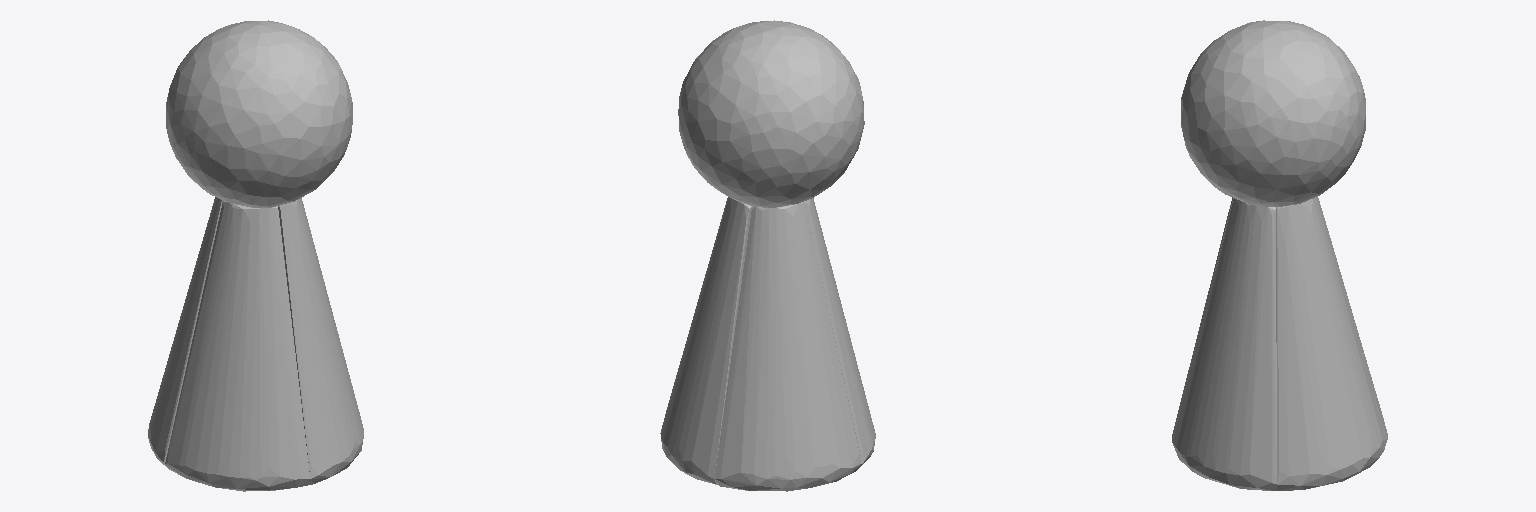
URDF robot description (root):
<robot name="root">
  <link name="link_cone+Ball_convex_piece_0">
    <inertial>
      <origin xyz="0 0 0" rpy="0 0 0"/>
      <mass value="2.35E-02"/>
      <inertia ixx="3.67E-05" ixy="-2.61E-06" ixz="9.09E-06" iyy="3.65E-05" iyz="9.45E-06" izz="8.07E-06"/>
    </inertial>
    <visual>
      <origin xyz="0 0 0" rpy="0 0 0"/>
      <geometry>
        <mesh filename="cone+Ball_convex_piece_0.obj" scale="1.0000E+00 1.0000E+00 1.0000E+00"/>
      </geometry>
      <material name="">
        <color rgba="7.50E-01 7.50E-01 7.50E-01 1"/>
      </material>
    </visual>
    <collision>
      <origin xyz="0 0 0" rpy="0 0 0"/>
      <geometry>
        <mesh filename="cone+Ball_convex_piece_0.obj" scale="1.0000E+00 1.0000E+00 1.0000E+00"/>
      </geometry>
    </collision>
  </link>
  <link name="link_cone+Ball_convex_piece_1">
    <inertial>
      <origin xyz="0 0 0" rpy="0 0 0"/>
      <mass value="2.31E-02"/>
      <inertia ixx="3.63E-05" ixy="2.61E-06" ixz="-9.06E-06" iyy="3.61E-05" iyz="9.32E-06" izz="7.99E-06"/>
    </inertial>
    <visual>
      <origin xyz="0 0 0" rpy="0 0 0"/>
      <geometry>
        <mesh filename="cone+Ball_convex_piece_1.obj" scale="1.0000E+00 1.0000E+00 1.0000E+00"/>
      </geometry>
      <material name="">
        <color rgba="7.50E-01 7.50E-01 7.50E-01 1"/>
      </material>
    </visual>
    <collision>
      <origin xyz="0 0 0" rpy="0 0 0"/>
      <geometry>
        <mesh filename="cone+Ball_convex_piece_1.obj" scale="1.0000E+00 1.0000E+00 1.0000E+00"/>
      </geometry>
    </collision>
  </link>
  <joint name="link_cone+Ball_convex_piece_1_joint" type="fixed">
    <origin xyz="0 0 0" rpy="0 0 0"/>
    <parent link="link_cone+Ball_convex_piece_0"/>
    <child link="link_cone+Ball_convex_piece_1"/>
  </joint>
  <link name="link_cone+Ball_convex_piece_2">
    <inertial>
      <origin xyz="0 0 0" rpy="0 0 0"/>
      <mass value="2.28E-02"/>
      <inertia ixx="3.49E-05" ixy="2.28E-06" ixz="8.63E-06" iyy="3.52E-05" iyz="-8.28E-06" izz="7.15E-06"/>
    </inertial>
    <visual>
      <origin xyz="0 0 0" rpy="0 0 0"/>
      <geometry>
        <mesh filename="cone+Ball_convex_piece_2.obj" scale="1.0000E+00 1.0000E+00 1.0000E+00"/>
      </geometry>
      <material name="">
        <color rgba="7.50E-01 7.50E-01 7.50E-01 1"/>
      </material>
    </visual>
    <collision>
      <origin xyz="0 0 0" rpy="0 0 0"/>
      <geometry>
        <mesh filename="cone+Ball_convex_piece_2.obj" scale="1.0000E+00 1.0000E+00 1.0000E+00"/>
      </geometry>
    </collision>
  </link>
  <joint name="link_cone+Ball_convex_piece_2_joint" type="fixed">
    <origin xyz="0 0 0" rpy="0 0 0"/>
    <parent link="link_cone+Ball_convex_piece_1"/>
    <child link="link_cone+Ball_convex_piece_2"/>
  </joint>
  <link name="link_cone+Ball_convex_piece_3">
    <inertial>
      <origin xyz="0 0 0" rpy="0 0 0"/>
      <mass value="2.30E-02"/>
      <inertia ixx="3.52E-05" ixy="-2.28E-06" ixz="-8.61E-06" iyy="3.54E-05" iyz="-8.38E-06" izz="7.20E-06"/>
    </inertial>
    <visual>
      <origin xyz="0 0 0" rpy="0 0 0"/>
      <geometry>
        <mesh filename="cone+Ball_convex_piece_3.obj" scale="1.0000E+00 1.0000E+00 1.0000E+00"/>
      </geometry>
      <material name="">
        <color rgba="7.50E-01 7.50E-01 7.50E-01 1"/>
      </material>
    </visual>
    <collision>
      <origin xyz="0 0 0" rpy="0 0 0"/>
      <geometry>
        <mesh filename="cone+Ball_convex_piece_3.obj" scale="1.0000E+00 1.0000E+00 1.0000E+00"/>
      </geometry>
    </collision>
  </link>
  <joint name="link_cone+Ball_convex_piece_3_joint" type="fixed">
    <origin xyz="0 0 0" rpy="0 0 0"/>
    <parent link="link_cone+Ball_convex_piece_2"/>
    <child link="link_cone+Ball_convex_piece_3"/>
  </joint>
  <link name="link_cone+Ball_convex_piece_4">
    <inertial>
      <origin xyz="0 0 0" rpy="0 0 0"/>
      <mass value="5.85E-02"/>
      <inertia ixx="1.38E-04" ixy="-9.33E-10" ixz="7.53E-09" iyy="1.38E-04" iyz="2.23E-06" izz="1.68E-05"/>
    </inertial>
    <visual>
      <origin xyz="0 0 0" rpy="0 0 0"/>
      <geometry>
        <mesh filename="cone+Ball_convex_piece_4.obj" scale="1.0000E+00 1.0000E+00 1.0000E+00"/>
      </geometry>
      <material name="">
        <color rgba="7.50E-01 7.50E-01 7.50E-01 1"/>
      </material>
    </visual>
    <collision>
      <origin xyz="0 0 0" rpy="0 0 0"/>
      <geometry>
        <mesh filename="cone+Ball_convex_piece_4.obj" scale="1.0000E+00 1.0000E+00 1.0000E+00"/>
      </geometry>
    </collision>
  </link>
  <joint name="link_cone+Ball_convex_piece_4_joint" type="fixed">
    <origin xyz="0 0 0" rpy="0 0 0"/>
    <parent link="link_cone+Ball_convex_piece_3"/>
    <child link="link_cone+Ball_convex_piece_4"/>
  </joint>
</robot>

--- What the picture shows (computed from the rendered views, not written in the file) ---
Views: 3 orthographic renders of the robot side by side, from view 1: azimuth 30°, elevation 25°; view 2: azimuth 150°, elevation 25°; view 3: azimuth 270°, elevation 25°.
Robot: root — 5 links, 4 joints (4 fixed); root link link_cone+Ball_convex_piece_0; default pose: all joints at 0.
Links seen in each view (by area): view 1: link_cone+Ball_convex_piece_3, link_cone+Ball_convex_piece_4, link_cone+Ball_convex_piece_2, link_cone+Ball_convex_piece_1; view 2: link_cone+Ball_convex_piece_1, link_cone+Ball_convex_piece_4, link_cone+Ball_convex_piece_0, link_cone+Ball_convex_piece_3; view 3: link_cone+Ball_convex_piece_4, link_cone+Ball_convex_piece_0, link_cone+Ball_convex_piece_2.
Link boxes in pixels (x1=…): link_cone+Ball_convex_piece_3: x1=165, y1=201, x2=309, y2=491; link_cone+Ball_convex_piece_4: x1=166, y1=20, x2=352, y2=207; link_cone+Ball_convex_piece_2: x1=278, y1=198, x2=363, y2=485; link_cone+Ball_convex_piece_1: x1=148, y1=197, x2=223, y2=467; link_cone+Ball_convex_piece_1: x1=715, y1=202, x2=861, y2=491; link_cone+Ball_convex_piece_4: x1=678, y1=20, x2=864, y2=207; link_cone+Ball_convex_piece_0: x1=660, y1=197, x2=753, y2=484; link_cone+Ball_convex_piece_3: x1=804, y1=198, x2=875, y2=467; link_cone+Ball_convex_piece_4: x1=1181, y1=20, x2=1365, y2=206; link_cone+Ball_convex_piece_0: x1=1277, y1=197, x2=1387, y2=490; link_cone+Ball_convex_piece_2: x1=1172, y1=198, x2=1276, y2=490.
Size in the robot's own frame: 0.0615 by 0.0615 by 0.1335 metres.
5 mesh visuals loaded from 5 distinct referenced files (5 OBJ).
